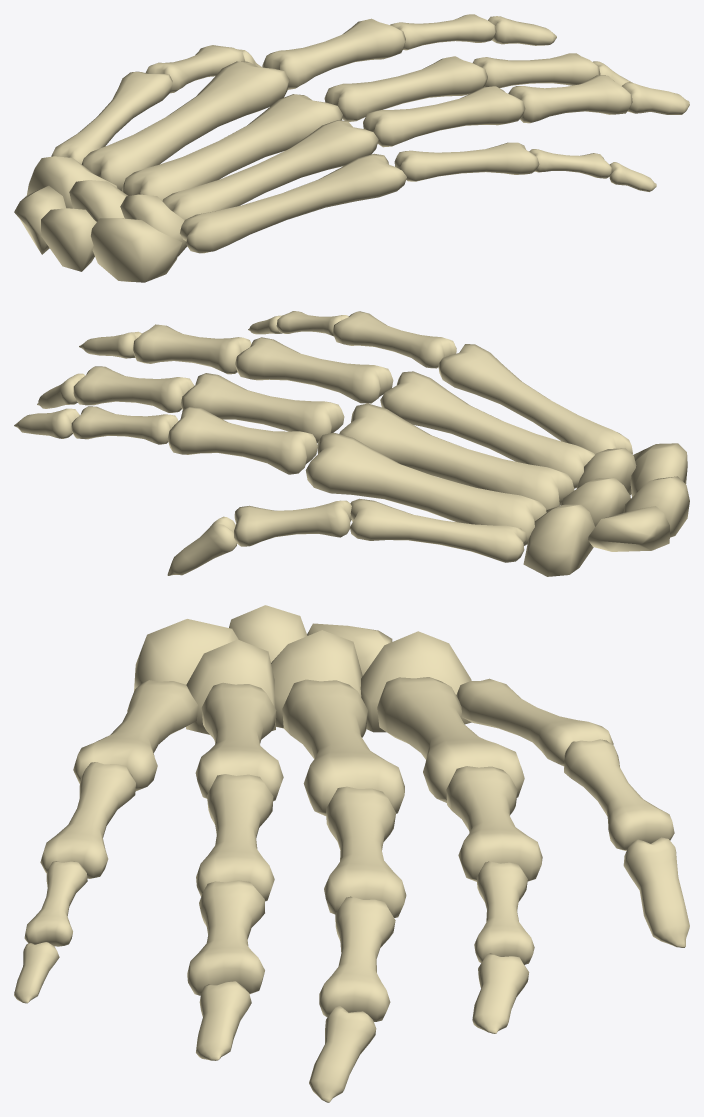
The model's file is mano.fbx.
3 views of the same model, one above another, from view 1: azimuth 30°, elevation 25°; view 2: azimuth 150°, elevation 25°; view 3: azimuth 270°, elevation 25° (orthographic). The views are drawn at different scales.
Parts seen in each view (by area): view 1: Cube.022, Cube.003, Cube, Cube.009, Cube.006, Cube.001, Cube.007, Cube.004, Cube.012, Cube.010, Cube.008, Cube.002 (+6 smaller); view 2: Cube.022, Cube.003, Cube, Cube.006, Cube.009, Cube.012, Cube.004, Cube.001, Cube.007, Cube.013, Cube.002, Cube.008 (+8 smaller); view 3: Cube.022, Cube, Cube.003, Cube.001, Cube.004, Cube.006, Cube.007, Cube.008, Cube.009, Cube.002, Cube.013, Cube.012 (+8 smaller).
Boxes of the visible parts, bbox=[...] form: Cube.022: bbox=[14, 156, 187, 282]; Cube.003: bbox=[81, 61, 289, 190]; Cube: bbox=[122, 94, 342, 200]; Cube.009: bbox=[180, 153, 406, 253]; Cube.006: bbox=[162, 120, 378, 220]; Cube.001: bbox=[324, 56, 487, 121]; Cube.007: bbox=[363, 86, 525, 147]; Cube.004: bbox=[262, 18, 405, 89]; Cube.012: bbox=[51, 71, 172, 164]; Cube.010: bbox=[394, 142, 539, 181]; Cube.008: bbox=[508, 75, 632, 123]; Cube.002: bbox=[473, 53, 600, 88]; Cube.022: bbox=[523, 443, 689, 576]; Cube.003: bbox=[305, 432, 546, 545]; Cube: bbox=[339, 403, 574, 510]; Cube.006: bbox=[380, 371, 594, 488]; Cube.009: bbox=[438, 344, 632, 454]; Cube.012: bbox=[350, 498, 526, 562]; Cube.004: bbox=[167, 406, 317, 474]; Cube.001: bbox=[180, 373, 344, 443]; Cube.007: bbox=[235, 337, 393, 403]; Cube.013: bbox=[234, 500, 351, 546]; Cube.002: bbox=[73, 366, 194, 412]; Cube.008: bbox=[133, 324, 251, 374]; Cube.022: bbox=[134, 605, 471, 734]; Cube: bbox=[282, 679, 404, 815]; Cube.003: bbox=[377, 677, 524, 802]; Cube.001: bbox=[324, 786, 406, 917]; Cube.004: bbox=[446, 766, 542, 881]; Cube.006: bbox=[195, 682, 283, 800]; Cube.007: bbox=[196, 774, 274, 901]; Cube.008: bbox=[187, 880, 264, 995]; Cube.009: bbox=[73, 680, 197, 790]; Cube.002: bbox=[319, 896, 395, 1021]; Cube.013: bbox=[564, 739, 674, 850]; Cube.012: bbox=[456, 678, 613, 766].
Size of the model in its own units: 377 by 58.68 by 252.
